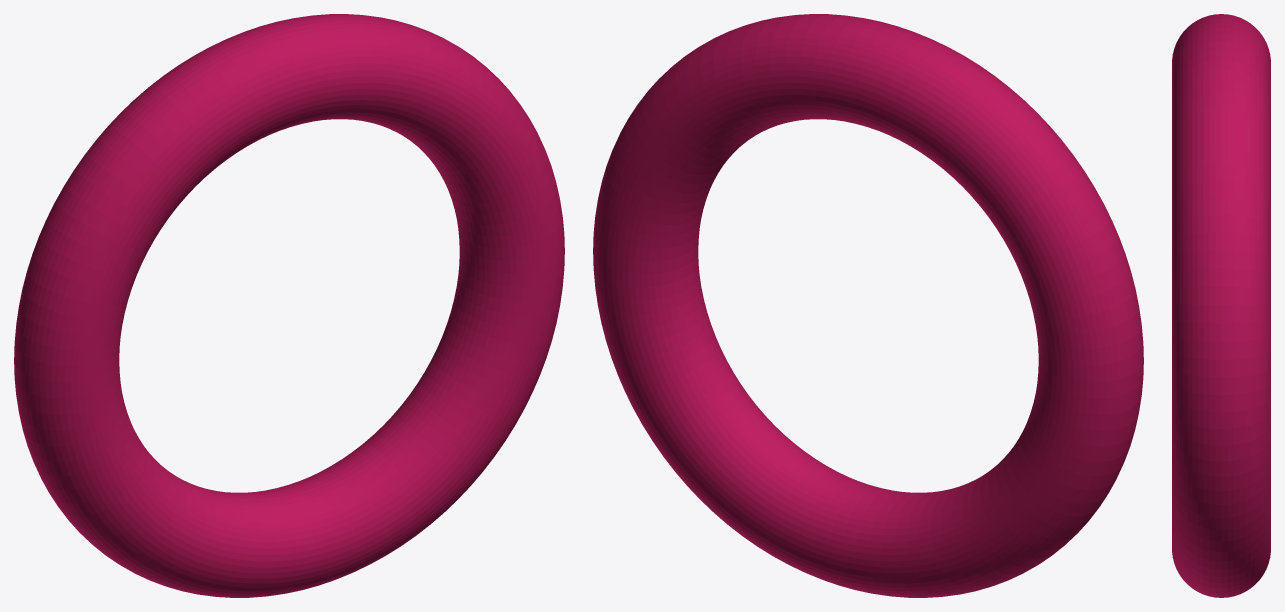
The picture shows the model from 3 angles, left to right: view 1: azimuth 30°, elevation 25°; view 2: azimuth 150°, elevation 25°; view 3: azimuth 270°, elevation 25°; orthographic projection. The views are drawn at different scales.
Parts seen in each view (by area): view 1: world; view 2: world; view 3: world.
Part boxes in pixels (x1=…): world: x1=14, y1=14, x2=564, y2=597; world: x1=593, y1=14, x2=1143, y2=597; world: x1=1172, y1=14, x2=1270, y2=597.
Size of the model in its own units: 35.33 by 35.33 by 5.99.
